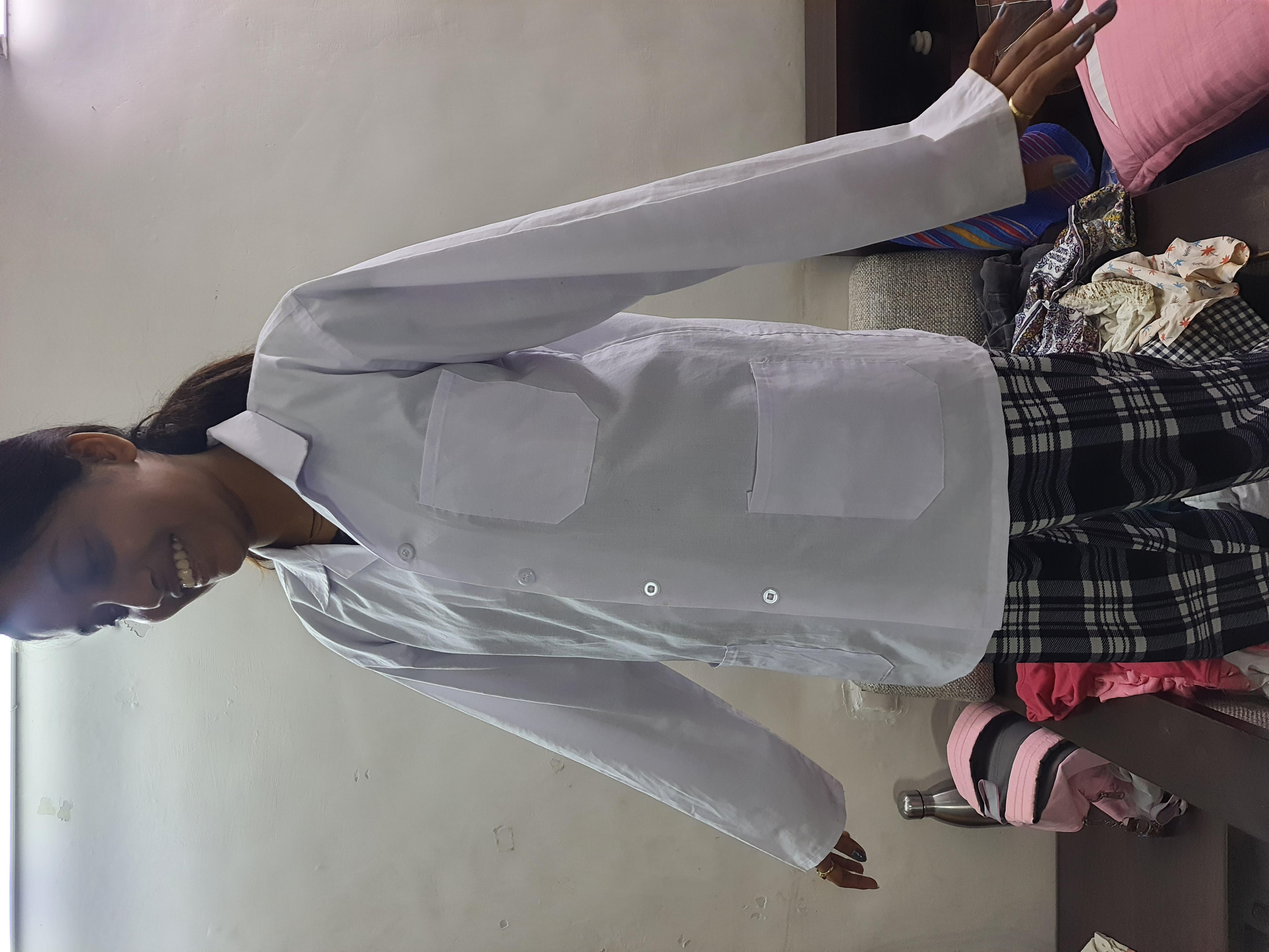Lab_coat: (110, 156, 1173, 769)
